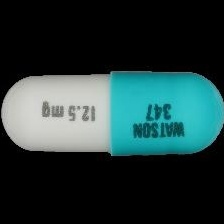49999-388: (0, 0, 224, 224)
